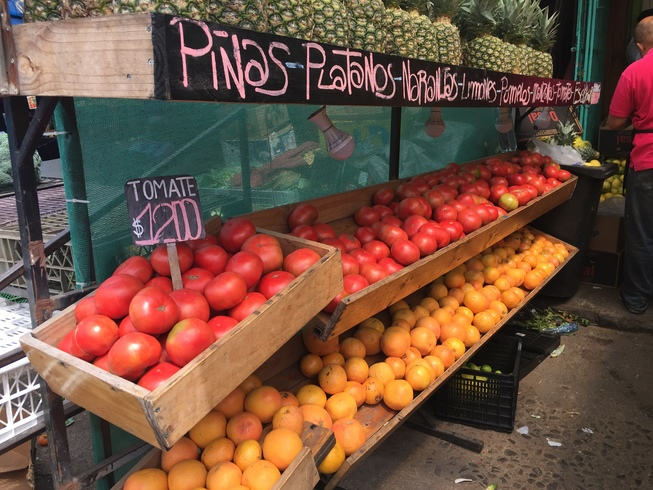precio: (120, 169, 210, 251)
